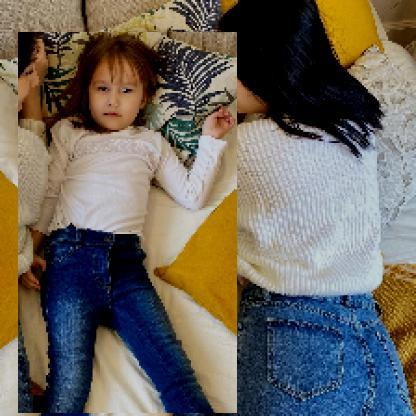child: (19, 33, 239, 415)
